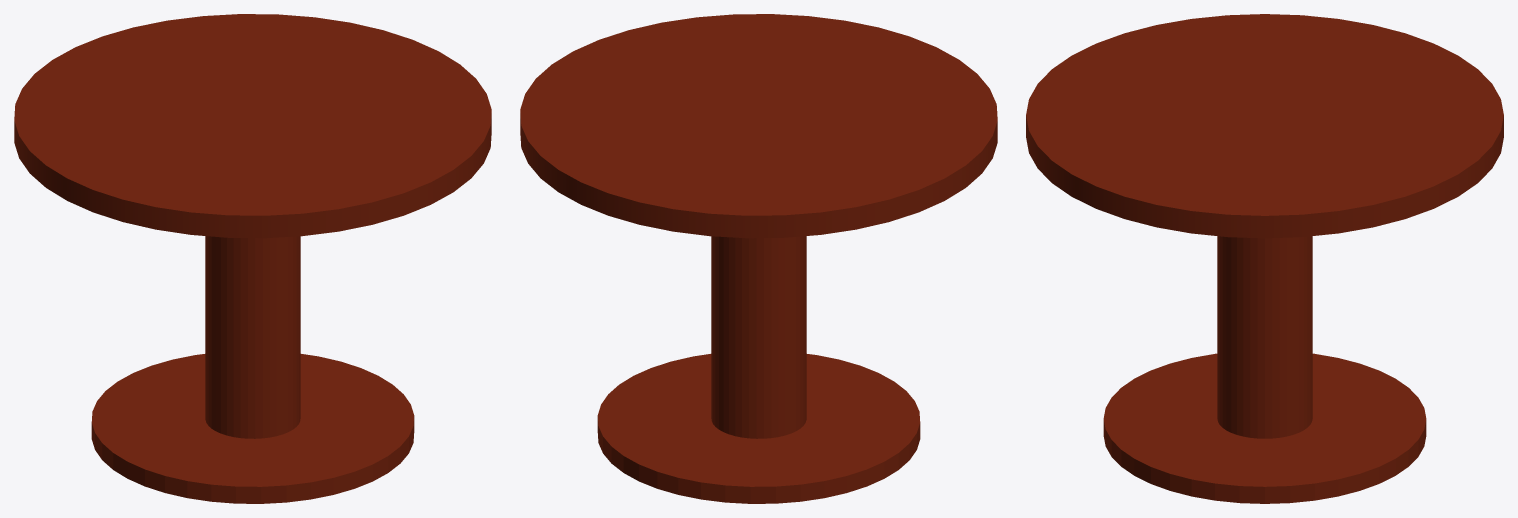
The model's file is RESTO_TABLE.FBX.
The picture shows the model from 3 angles, left to right: view 1: azimuth 30°, elevation 25°; view 2: azimuth 150°, elevation 25°; view 3: azimuth 270°, elevation 25°; orthographic projection.
Visible parts, largest first — view 1: RESTO_TABLE; view 2: RESTO_TABLE; view 3: RESTO_TABLE.
Part boxes in pixels (x1,y1,x2,y2): RESTO_TABLE: (14, 14, 491, 503); RESTO_TABLE: (520, 14, 997, 503); RESTO_TABLE: (1026, 14, 1503, 503).
Bounding box in the file's own units: 82.3 × 60.96 × 82.3.
